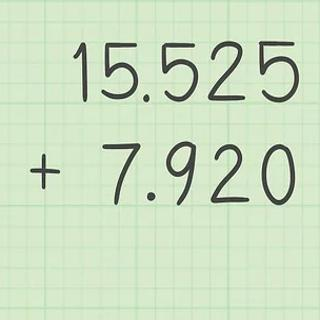.: (144, 188, 157, 203), (142, 90, 152, 106)
0: (257, 137, 305, 208)
1: (67, 37, 92, 106)
2: (206, 138, 254, 209), (205, 36, 250, 105)
5: (255, 35, 303, 104), (96, 36, 141, 106), (158, 36, 203, 105)
7: (95, 135, 143, 206)
9: (157, 138, 205, 209)
